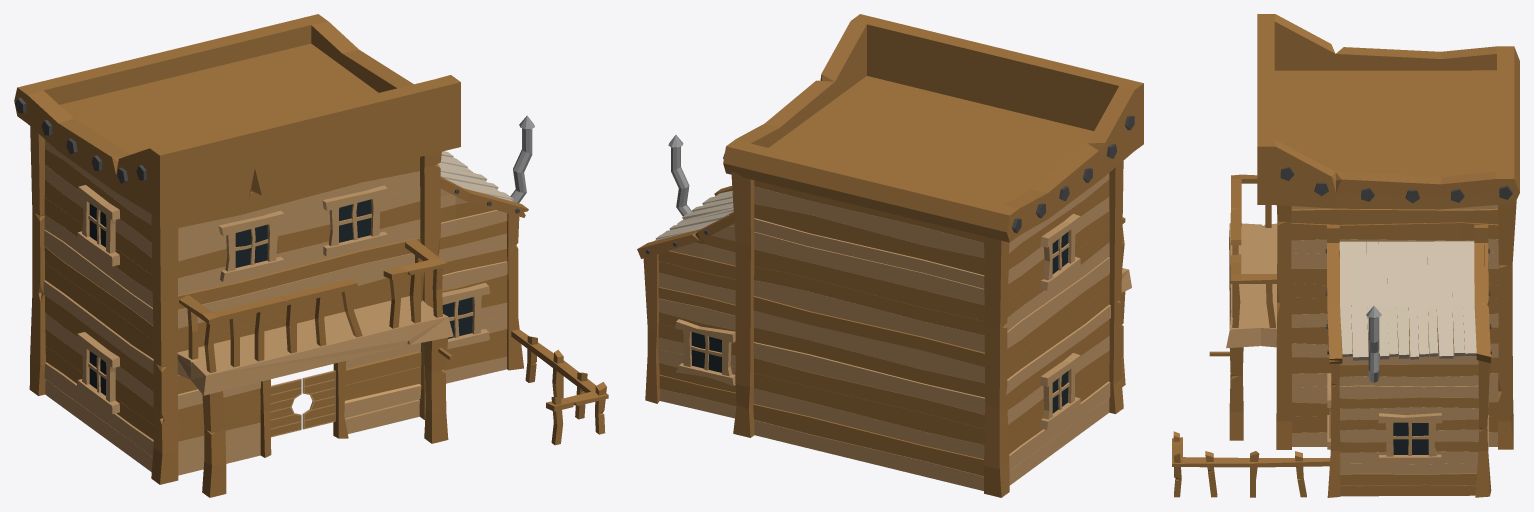
Rendered from Building_Saloon.fbx.
3 views of the same model, side by side, from view 1: azimuth 30°, elevation 25°; view 2: azimuth 150°, elevation 25°; view 3: azimuth 270°, elevation 25° (orthographic). The views are drawn at different scales.
Parts seen in each view (by area): view 1: Building_Saloon; view 2: Building_Saloon; view 3: Building_Saloon.
Boxes of the visible parts, <box> form: Building_Saloon: <box>14,14,608,497</box>; Building_Saloon: <box>637,14,1143,497</box>; Building_Saloon: <box>1172,14,1519,497</box>.
Bounding box in the file's own units: 1001 × 754 × 736.
